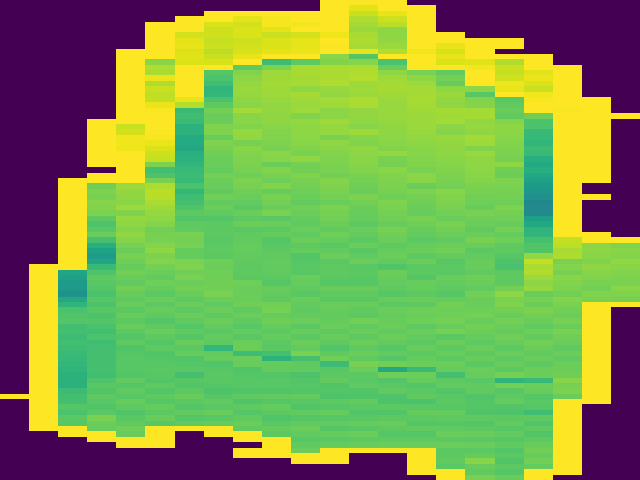car_0027: (4, 1, 640, 404)
